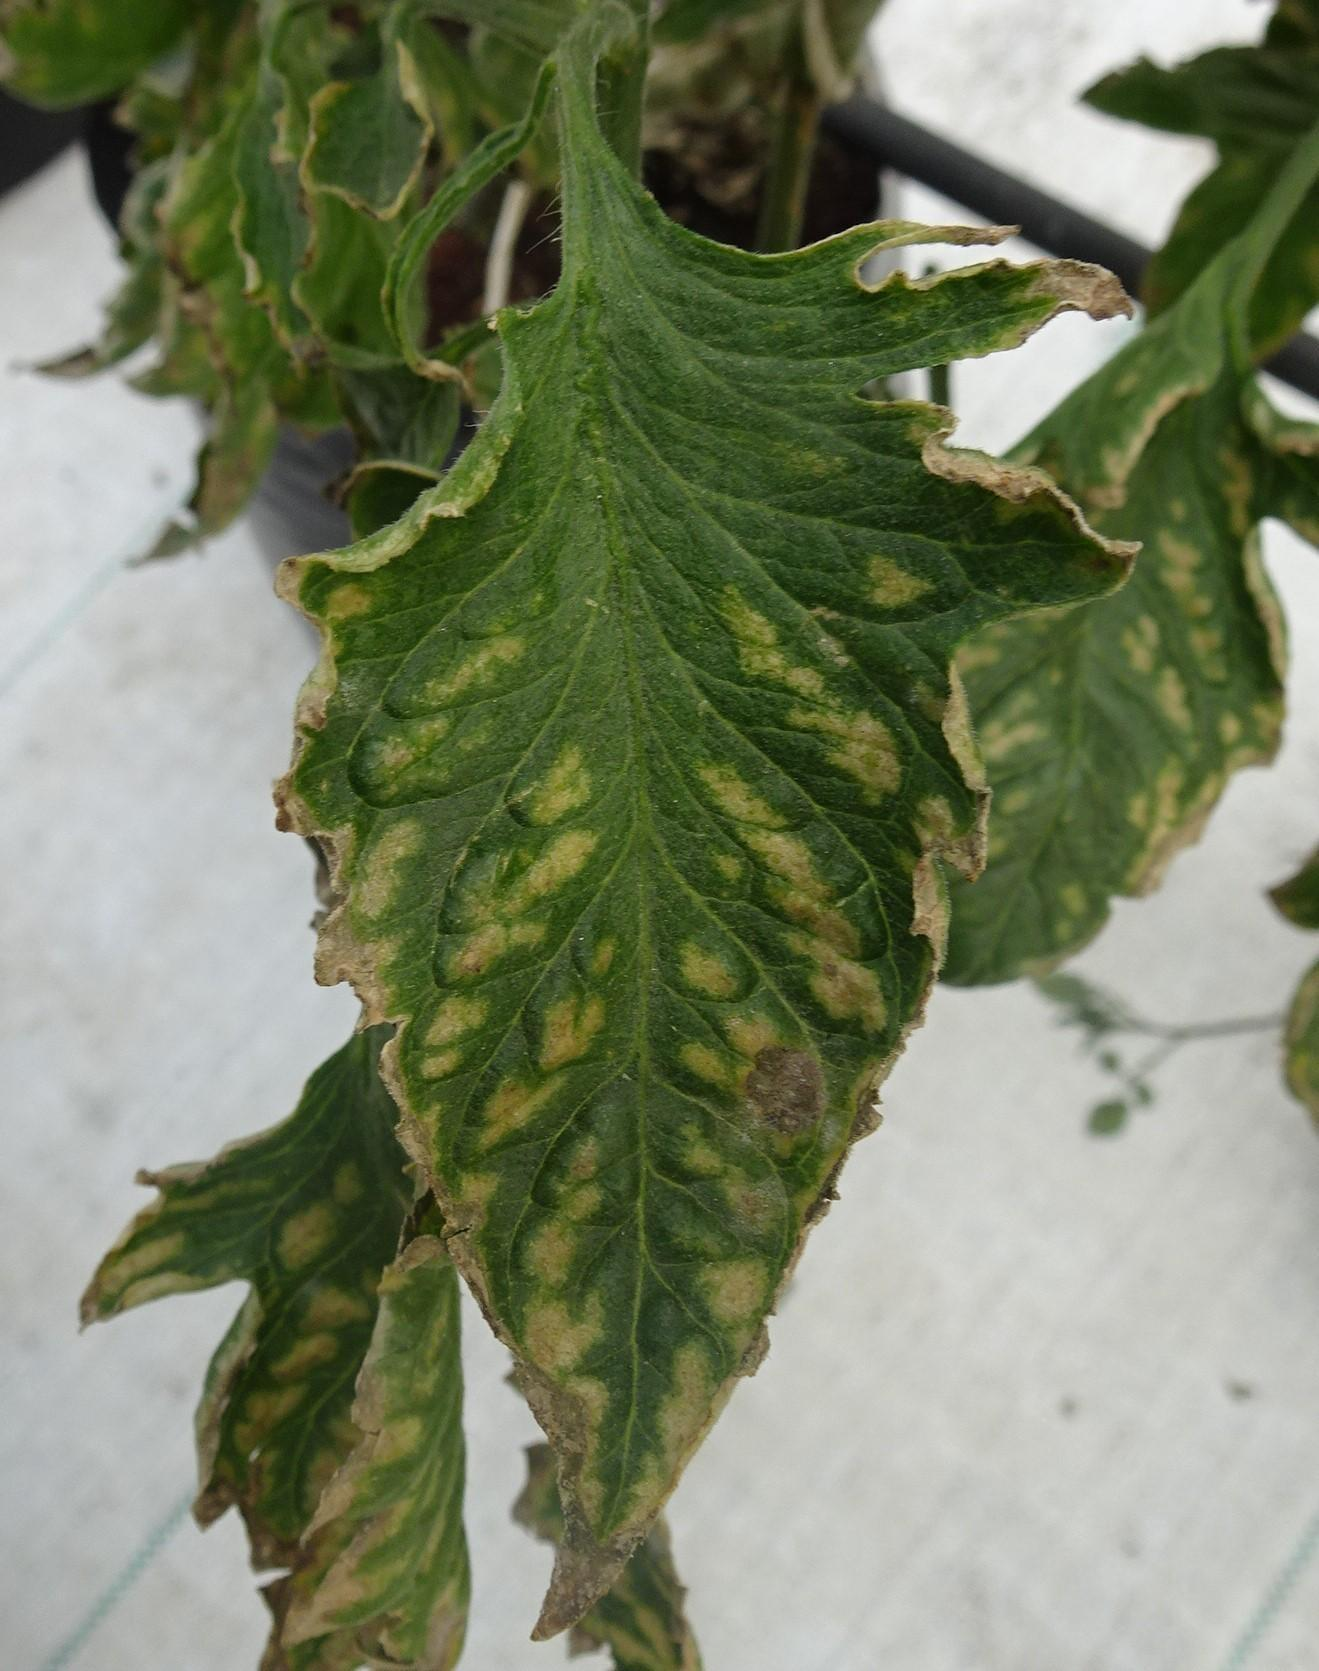Hoja rugoso: (281, 23, 1133, 1636), (81, 1031, 470, 1671)
